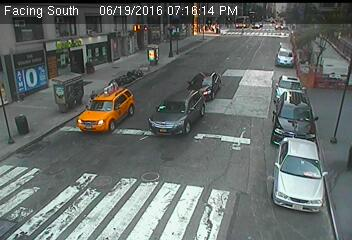neg: (274, 1, 286, 15), (246, 7, 257, 22)
